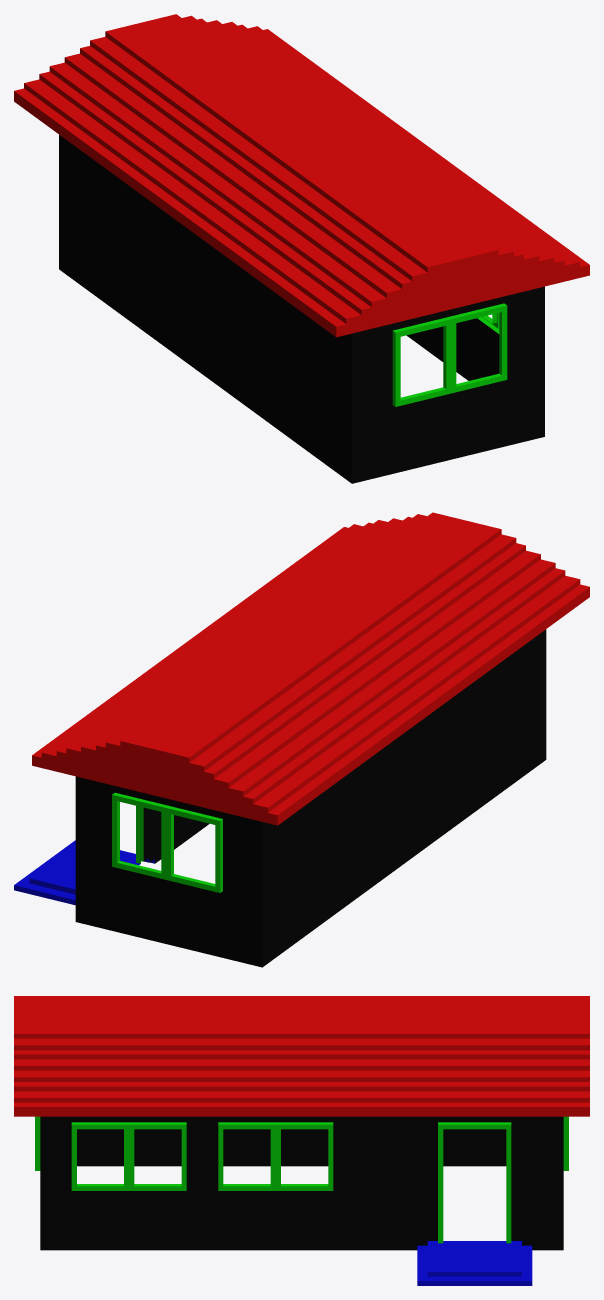
File: House.fbx
3 renders of one model, top to bottom at view 1: azimuth 30°, elevation 25°; view 2: azimuth 150°, elevation 25°; view 3: azimuth 270°, elevation 25°, orthographic. The views are drawn at different scales.
Visible parts, largest first — view 1: house; view 2: house; view 3: house.
Boxes of the visible parts, bbox=[...] form: house: bbox=[14, 14, 589, 483]; house: bbox=[14, 512, 589, 967]; house: bbox=[14, 996, 589, 1285].
Size of the model in its own units: 6 by 4 by 11.
